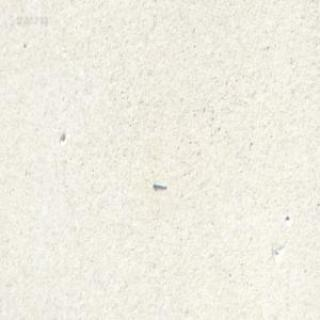Nailtrack_idkeyframe: (152, 178, 166, 188)
